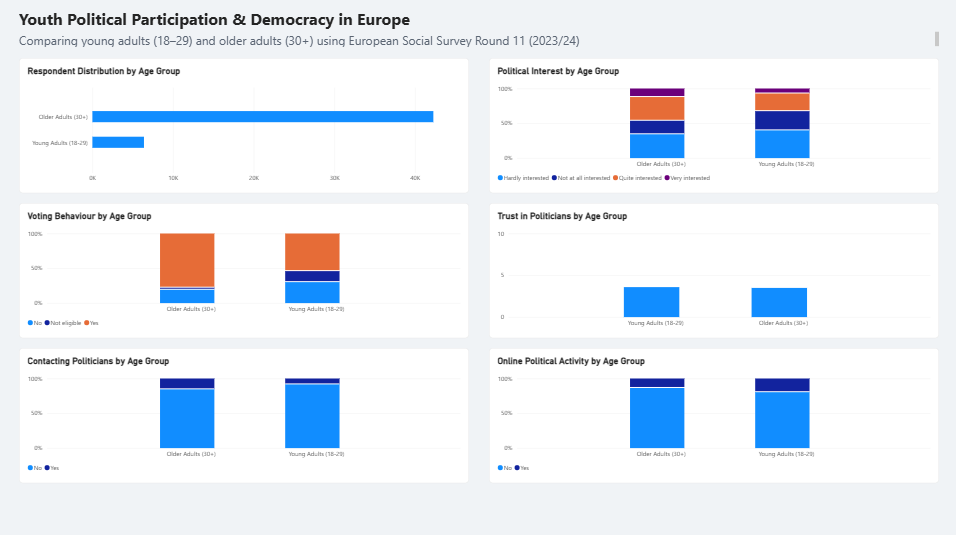

This screenshot's page, from the dashboard's own definition file:
{"tool":"powerbi","page":{"name":"Page 1","canvas":[1920,1080],"ordinal":0},"visuals":[{"type":"clusteredBarChart","title":"Respondent Distribution by Age Group","fields":{"Category":["youth_political_participation_cleaned.Age_Group"],"Y":["CountNonNull(youth_political_participation_cleaned.Respondent_ID)"]},"box":[40,120,900,270],"z":0},{"type":"hundredPercentStackedColumnChart","title":"Political Interest by Age Group","fields":{"Category":["youth_political_participation_cleaned.Age_Group"],"Series":["youth_political_participation_cleaned.Political_Interest"],"Y":["CountNonNull(youth_political_participation_cleaned.Respondent_ID)"]},"box":[980,120,900,270],"z":1},{"type":"hundredPercentStackedColumnChart","title":"Voting Behaviour by Age Group","fields":{"Category":["youth_political_participation_cleaned.Age_Group"],"Series":["youth_political_participation_cleaned.Voted_Last_Election"],"Y":["CountNonNull(youth_political_participation_cleaned.Respondent_ID)"]},"box":[40,410,900,270],"z":2},{"type":"clusteredColumnChart","title":"Trust in Politicians by Age Group","fields":{"Category":["youth_political_participation_cleaned.Age_Group"],"Y":["Avg(youth_political_participation_cleaned.Trust_Politicians)"]},"box":[980,410,900,270],"z":3},{"type":"hundredPercentStackedColumnChart","title":"Contacting Politicians by Age Group","fields":{"Category":["youth_political_participation_cleaned.Age_Group"],"Series":["youth_political_participation_cleaned.Contacted_Politician"],"Y":["CountNonNull(youth_political_participation_cleaned.Respondent_ID)"]},"box":[40,700,900,270],"z":4},{"type":"hundredPercentStackedColumnChart","title":"Online Political Activity by Age Group","fields":{"Category":["youth_political_participation_cleaned.Age_Group"],"Series":["youth_political_participation_cleaned.Online_Political_Activity"],"Y":["CountNonNull(youth_political_participation_cleaned.Respondent_ID)"]},"box":[980,700,900,270],"z":5},{"type":"textbox","box":[40,20,1008,45],"z":6},{"type":"textbox","box":[40,68,1840,30],"z":7}]}

Visuals, with their boxes in screenshot pixels (x1, y1, x2, y2), scaled from the page's 1920x1080 canvas onto the 956x535 screenshot:
"Respondent Distribution by Age Group" clusteredBarChart: [20,59,468,193]
"Political Interest by Age Group" hundredPercentStackedColumnChart: [488,59,936,193]
"Voting Behaviour by Age Group" hundredPercentStackedColumnChart: [20,203,468,337]
"Trust in Politicians by Age Group" clusteredColumnChart: [488,203,936,337]
"Contacting Politicians by Age Group" hundredPercentStackedColumnChart: [20,347,468,481]
"Online Political Activity by Age Group" hundredPercentStackedColumnChart: [488,347,936,481]
textbox: [20,10,522,32]
textbox: [20,34,936,49]
